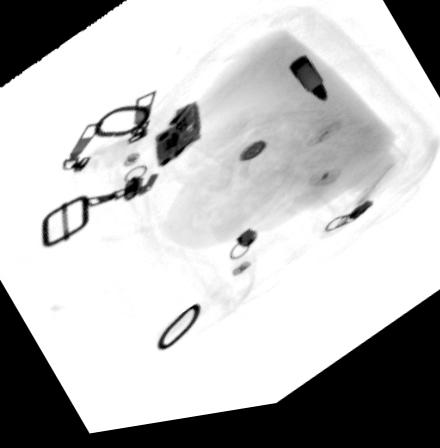Bullet: (288, 64, 329, 113)
